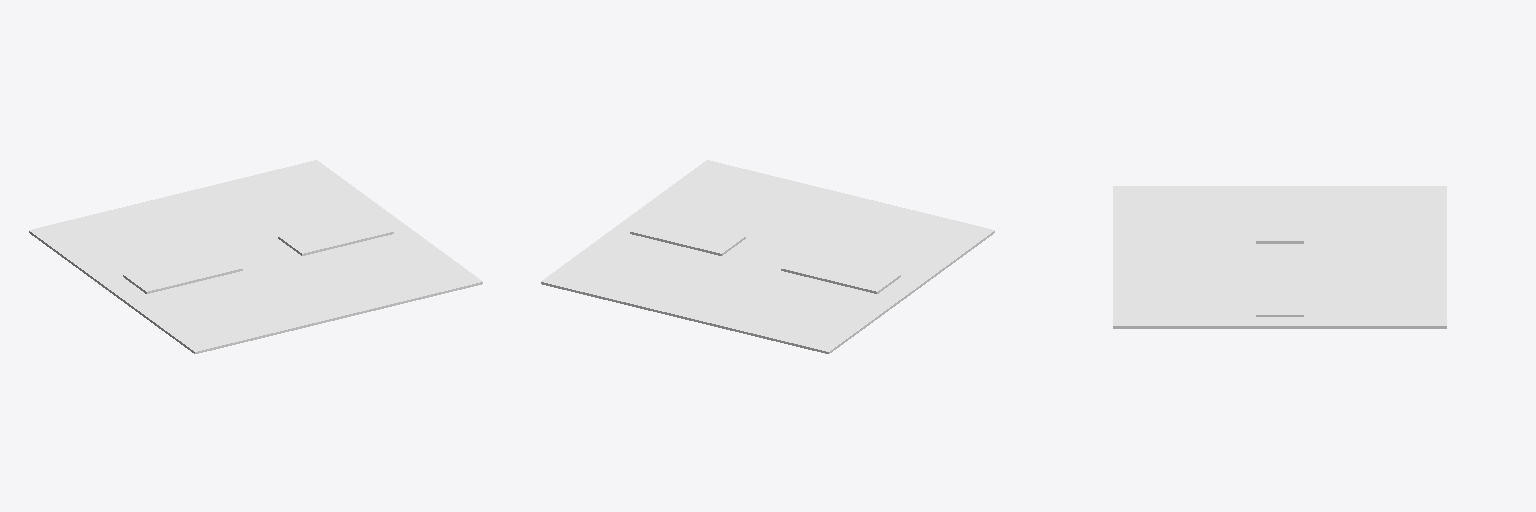
File: DADDY_ROAD_YELLOW.obj
3 views of the same model, side by side, from view 1: azimuth 30°, elevation 25°; view 2: azimuth 150°, elevation 25°; view 3: azimuth 270°, elevation 25° (orthographic).
Bounding box in the file's own units: 126 × 2 × 126.